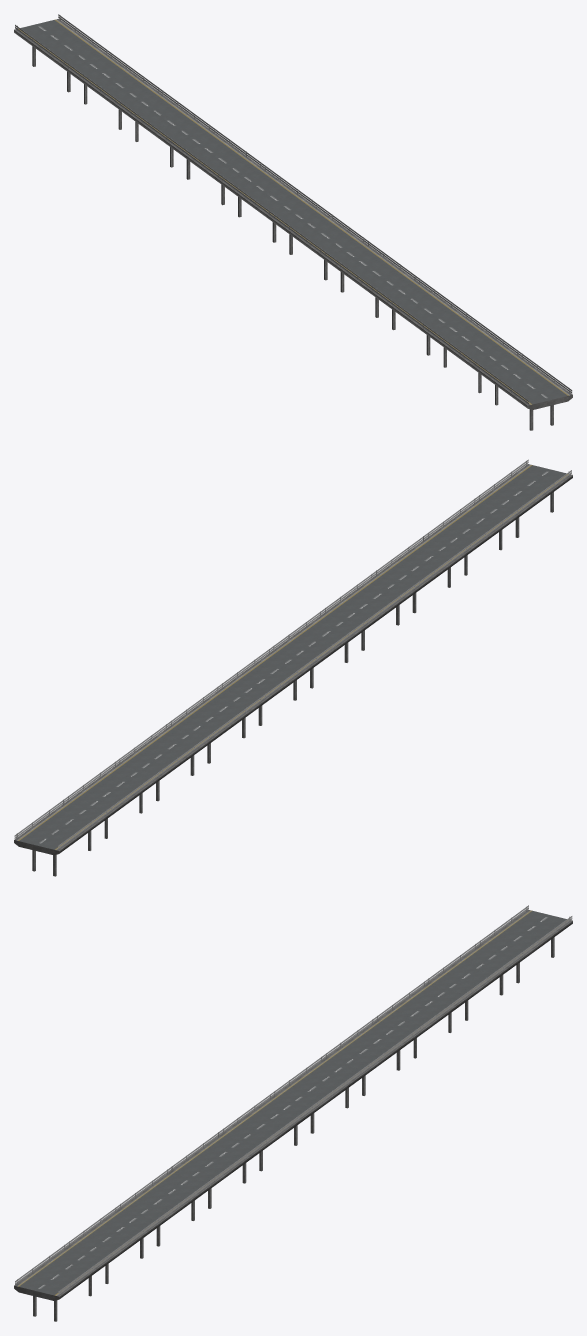
File: MB_Pier.fbx
The picture shows the model from 3 angles, top to bottom: view 1: azimuth 30°, elevation 25°; view 2: azimuth 150°, elevation 25°; view 3: azimuth 330°, elevation 25°; orthographic projection.
Parts seen in each view (by area): view 1: MB_Pier; view 2: MB_Pier; view 3: MB_Pier.
Part boxes in pixels (<box>): MB_Pier: <box>14,14,572,430</box>; MB_Pier: <box>14,459,572,876</box>; MB_Pier: <box>14,905,572,1321</box>.
Bounding box in the file's own units: 1016 × 835 × 20000.
